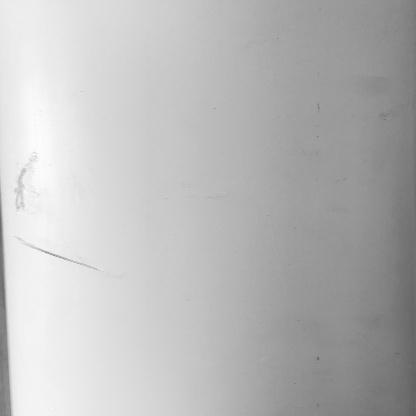sunshang: (11, 153, 100, 277)
